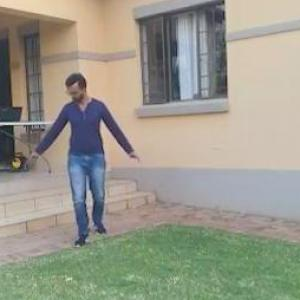land: (34, 69, 146, 252)
